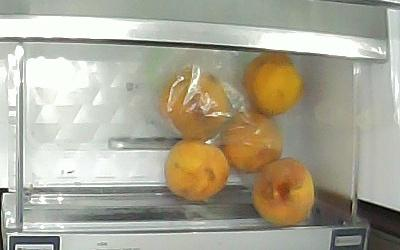peach: (252, 158, 314, 225), (165, 139, 230, 201), (243, 52, 303, 116)
peach_vinyl: (160, 67, 230, 139), (223, 112, 282, 173)
